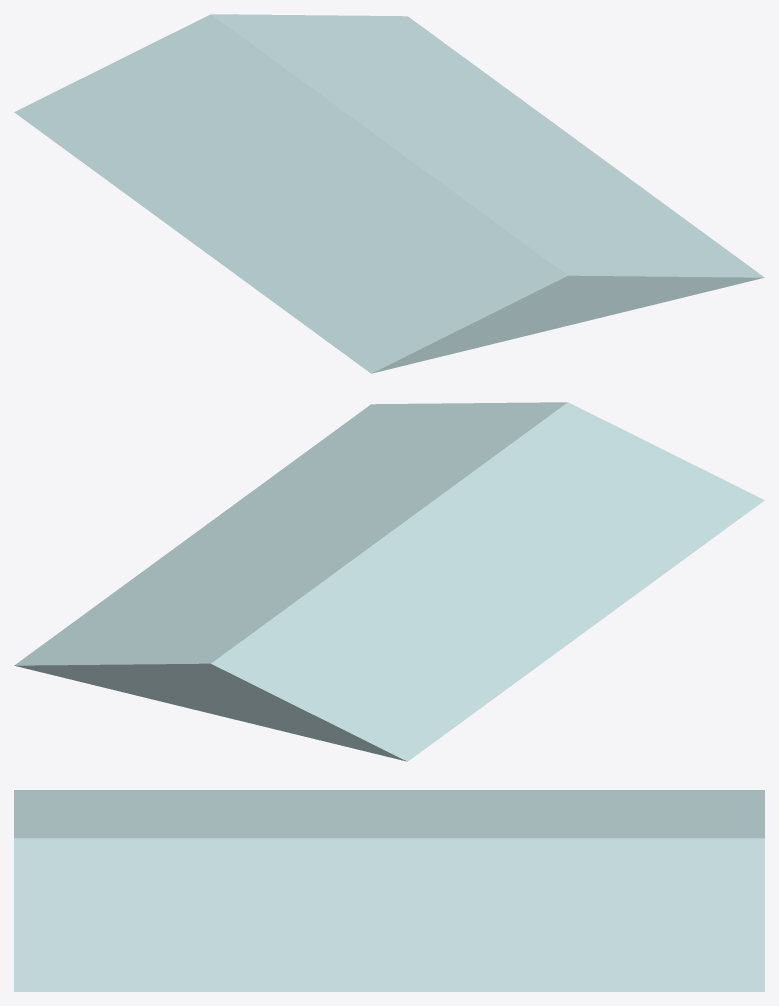
File: greenhouse_cover.dae
3 views of the same model, one above another, from view 1: azimuth 30°, elevation 25°; view 2: azimuth 150°, elevation 25°; view 3: azimuth 270°, elevation 25° (orthographic). The views are drawn at different scales.
Visible parts, largest first — view 1: model; view 2: model; view 3: model.
Part boxes in pixels (left/top/right/bottom): model: left=14, top=14, right=764, bottom=373; model: left=14, top=402, right=764, bottom=761; model: left=14, top=790, right=764, bottom=991.
Size of the model in its own units: 14 by 22 by 1.7.
